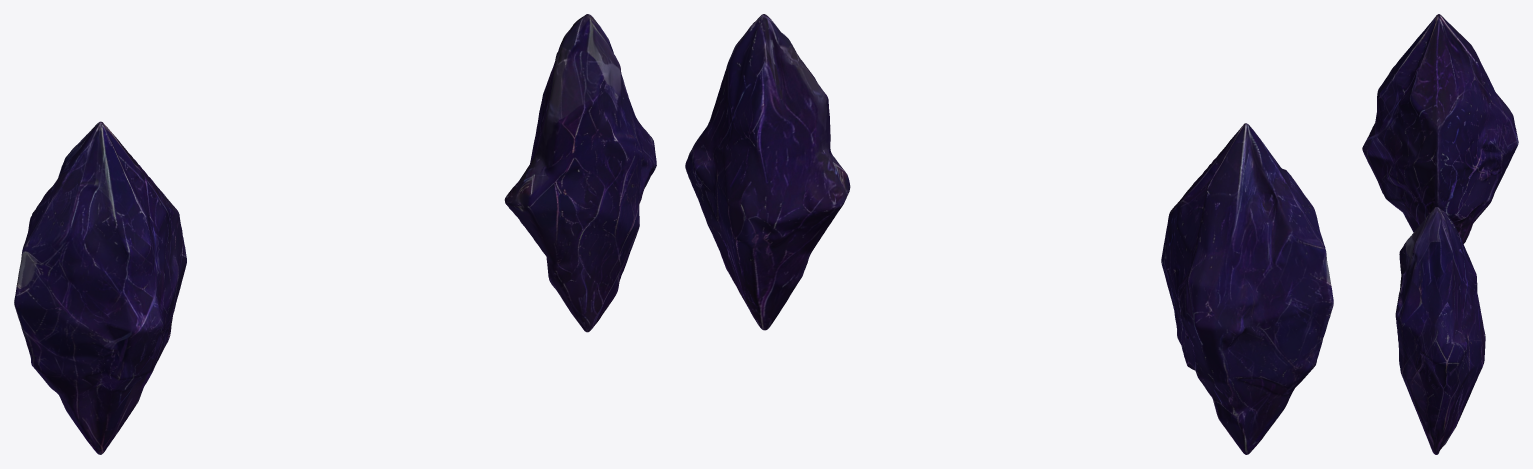
The model's file is crystal-core.glb.
The picture shows the model from 3 angles, left to right: view 1: azimuth 30°, elevation 25°; view 2: azimuth 150°, elevation 25°; view 3: azimuth 270°, elevation 25°; orthographic projection. The views are drawn at different scales.
Visible parts, largest first — view 1: tripo_node_4044841f; view 2: tripo_node_4044841f; view 3: tripo_node_4044841f.
Boxes of the visible parts, x1,y1,x2,y2 form: tripo_node_4044841f: [14, 14, 656, 454]; tripo_node_4044841f: [685, 14, 1333, 454]; tripo_node_4044841f: [1362, 14, 1518, 454].
Bounding box in the file's own units: 99.91 × 49.18 × 26.82.
1 material, 1 textured.
